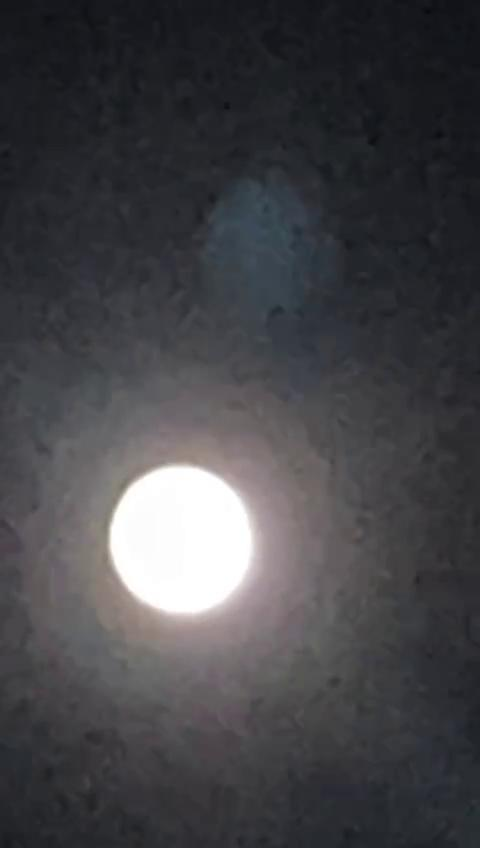moon: (92, 445, 264, 636)
